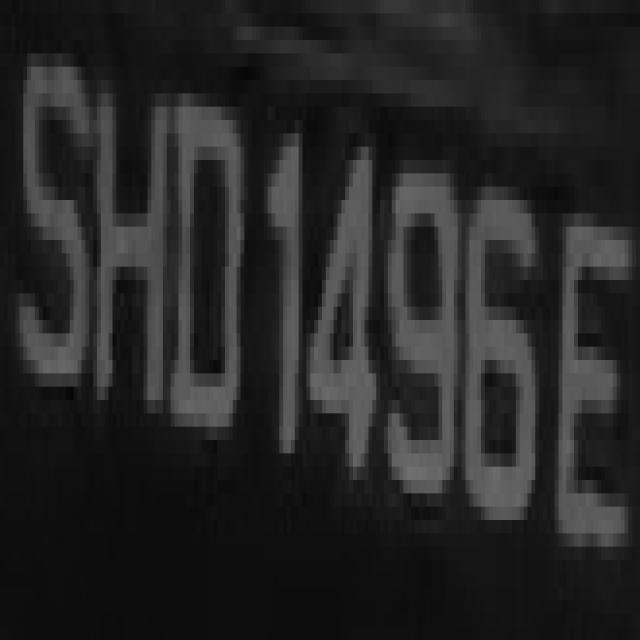1: (256, 80, 318, 480)
4: (306, 120, 388, 520)
6: (462, 120, 535, 573)
9: (376, 120, 454, 600)
D: (171, 54, 248, 454)
E: (543, 133, 636, 600)
H: (97, 80, 167, 440)
S: (8, 53, 89, 427)
